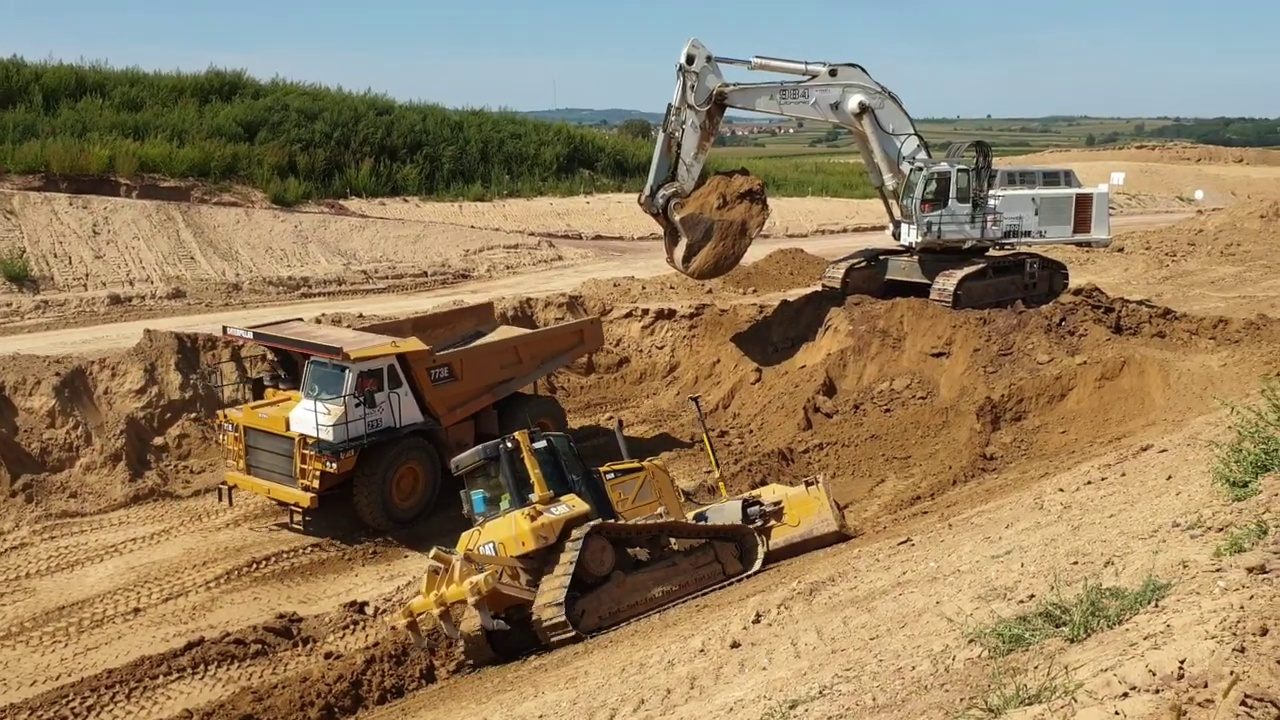bulldozer: (395, 392, 861, 669)
excavator: (630, 33, 1118, 319)
truck: (208, 296, 614, 537)
